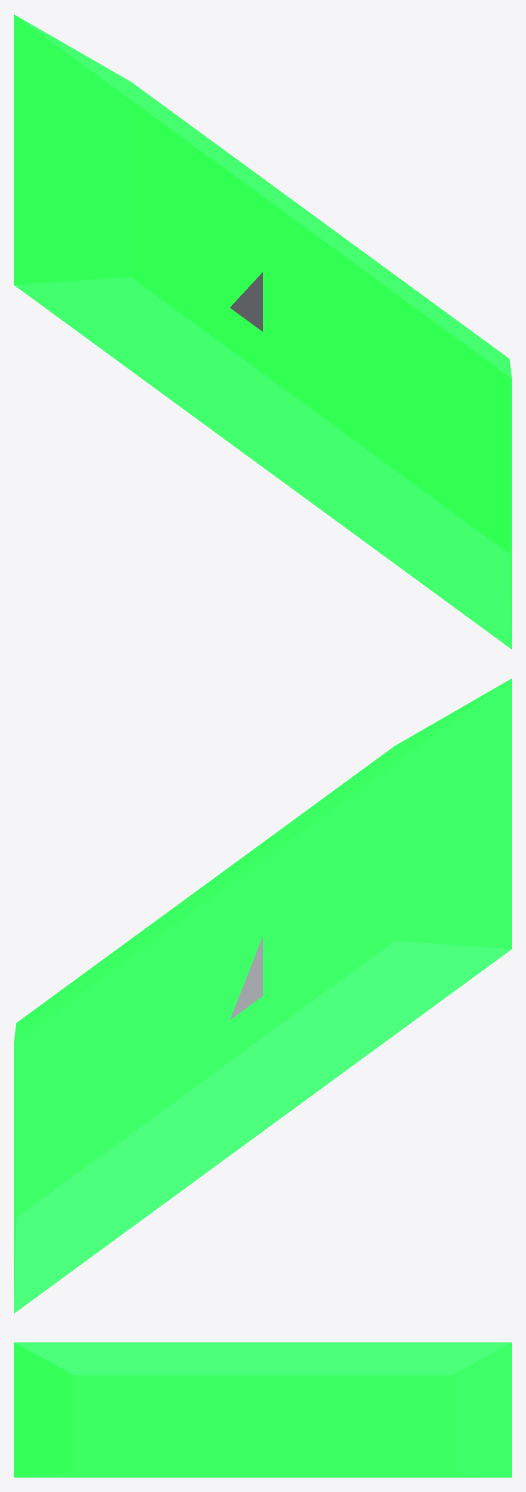
File: skirt_neon_green.glb
3 renders of one model, top to bottom at view 1: azimuth 30°, elevation 25°; view 2: azimuth 150°, elevation 25°; view 3: azimuth 270°, elevation 25°, orthographic. The views are drawn at different scales.
Visible parts, largest first — view 1: MOTIF_marker_led, MAT_chrome; view 2: MOTIF_marker_led, MAT_chrome; view 3: MOTIF_marker_led.
Boxes of the visible parts, x1,y1,x2,y2 form: MOTIF_marker_led: [14, 14, 511, 649]; MAT_chrome: [230, 272, 262, 331]; MOTIF_marker_led: [14, 678, 511, 1313]; MAT_chrome: [230, 936, 262, 1019]; MOTIF_marker_led: [14, 1342, 511, 1477].
Size of the model in its own units: 0.01 by 0.045 by 0.15.
